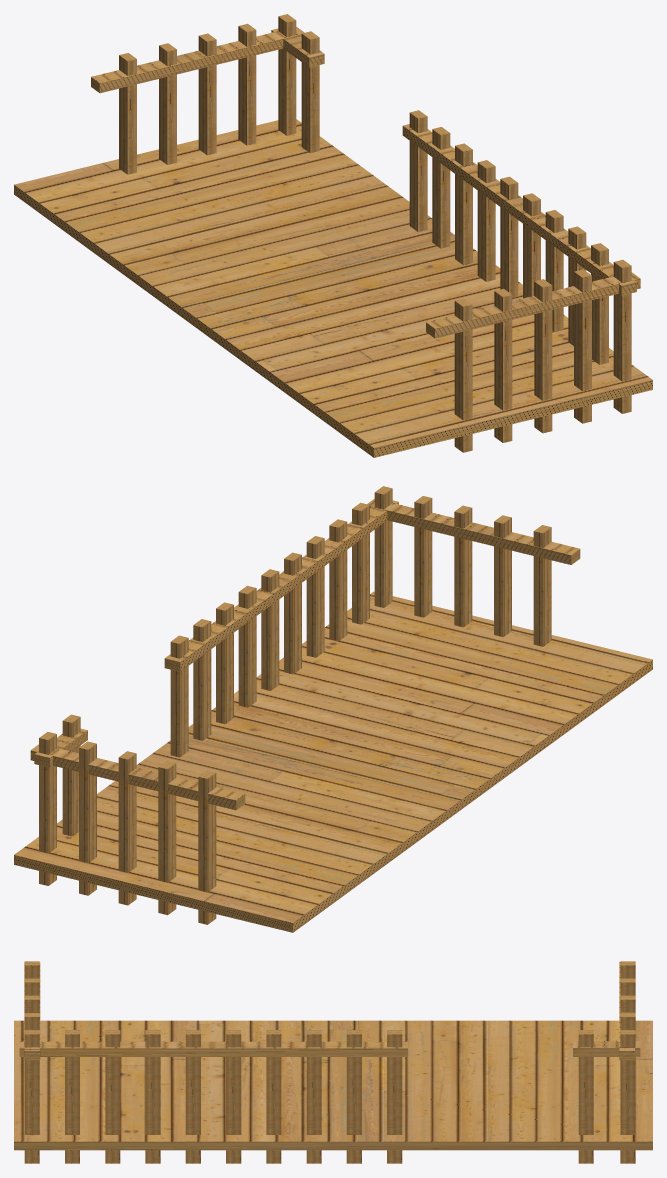
Rendered from grades casas dos outros.fbx.
3 renders of one model, top to bottom at view 1: azimuth 30°, elevation 25°; view 2: azimuth 150°, elevation 25°; view 3: azimuth 270°, elevation 25°, orthographic. The views are drawn at different scales.
Visible parts, largest first — view 1: pCube788, pCube809, pCube811, pCube810, pCube791, pCube792, pCube793, pCube789, pCube790, pCube795, pCube796, pCube808 (+13 smaller); view 2: pCube788, pCube809, pCube810, pCube811, pCube796, pCube797, pCube798, pCube795, pCube794, pCube793, pCube791, pCube790 (+13 smaller); view 3: pCube788, pCube809, pCube801, pCube800, pCube802, pCube803, pCube804, pCube805, pCube806, pCube807, pCube808, pCube794 (+5 smaller).
Part boxes in pixels (<box>): pCube788: <box>14,119,652,457</box>; pCube809: <box>402,124,636,295</box>; pCube811: <box>91,27,304,93</box>; pCube810: <box>426,272,640,338</box>; pCube791: <box>534,279,552,433</box>; pCube792: <box>494,289,512,442</box>; pCube793: <box>454,298,472,452</box>; pCube789: <box>613,259,631,413</box>; pCube790: <box>574,269,591,423</box>; pCube795: <box>238,23,256,145</box>; pCube796: <box>198,33,216,155</box>; pCube808: <box>301,31,319,153</box>; pCube788: <box>14,591,652,932</box>; pCube809: <box>164,500,398,671</box>; pCube810: <box>367,499,580,564</box>; pCube811: <box>30,744,245,810</box>; pCube796: <box>118,751,136,905</box>; pCube797: <box>158,761,176,915</box>; pCube798: <box>198,770,216,924</box>; pCube795: <box>79,741,96,895</box>; pCube794: <box>39,732,56,885</box>; pCube793: <box>533,525,551,646</box>; pCube791: <box>454,505,472,627</box>; pCube790: <box>414,496,432,617</box>; pCube788: <box>14,1020,652,1150</box>; pCube809: <box>19,1041,407,1056</box>; pCube801: <box>145,1030,160,1163</box>; pCube800: <box>105,1030,120,1163</box>; pCube802: <box>185,1030,200,1163</box>; pCube803: <box>226,1030,241,1163</box>; pCube804: <box>266,1030,281,1163</box>; pCube805: <box>306,1030,321,1163</box>; pCube806: <box>346,1030,361,1163</box>; pCube807: <box>387,1030,402,1163</box>; pCube808: <box>578,1030,593,1163</box>; pCube794: <box>620,1030,635,1163</box>.
Size of the model in its own units: 6.7 by 3.35 by 14.97.
